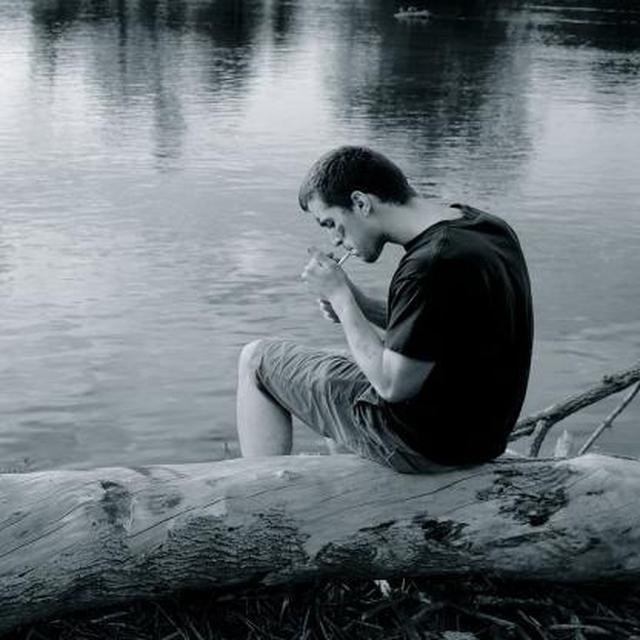smoking: (329, 245, 363, 272)
